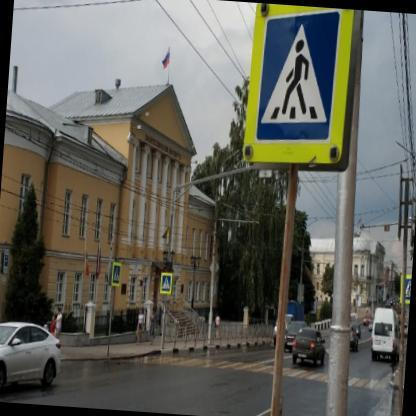obstructed_road_sign: (398, 272, 412, 302)
road_sign: (244, 4, 353, 163), (160, 272, 172, 295), (111, 262, 121, 287)
